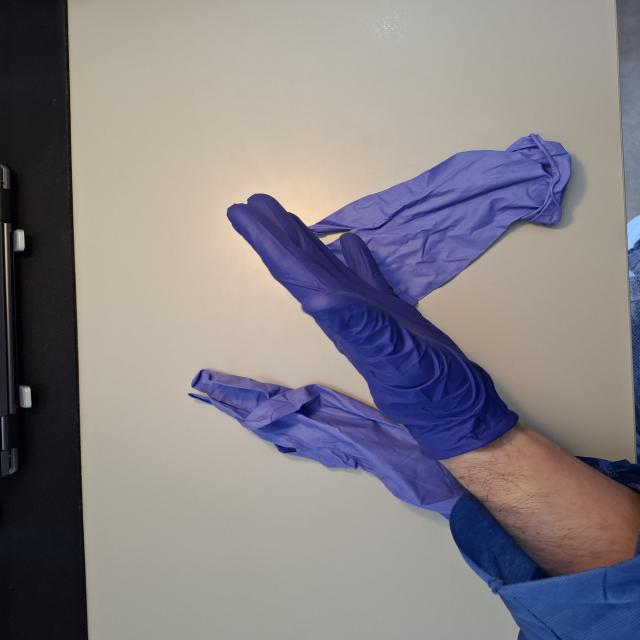glove_on: (222, 190, 507, 456)
